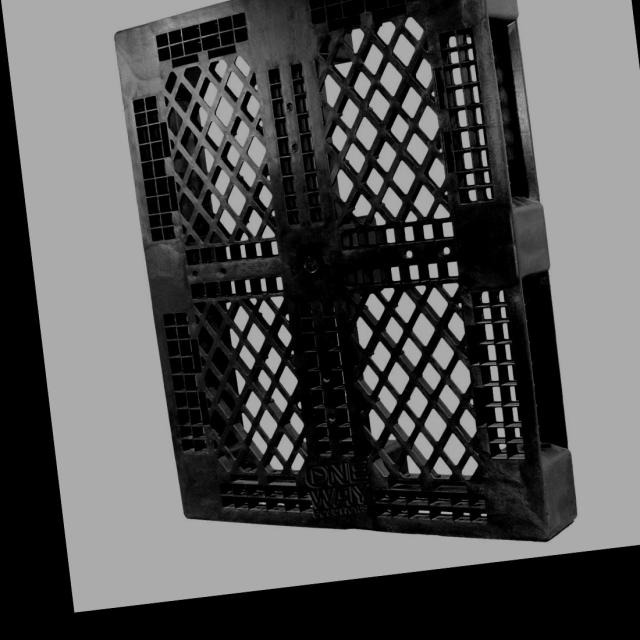non-igps: (106, 0, 585, 548)
